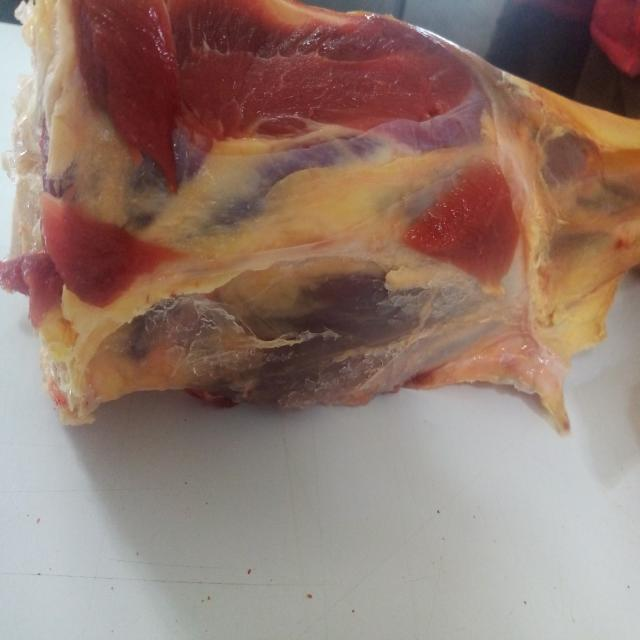beef: (11, 0, 640, 468)
